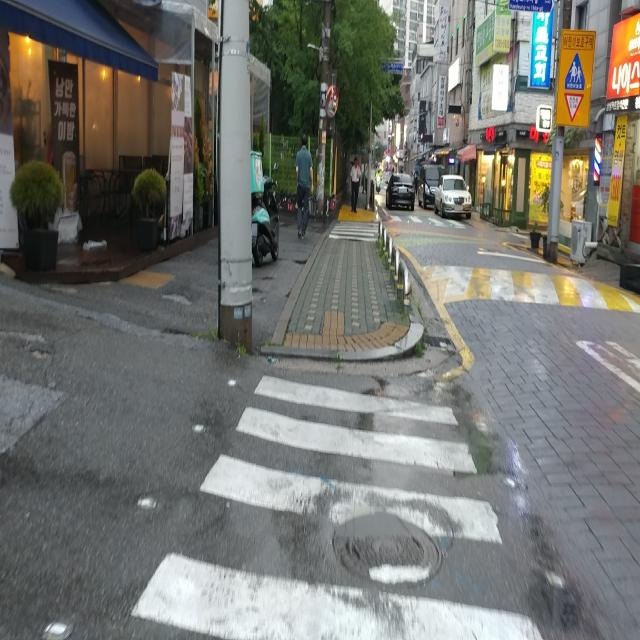횡단보도: (128, 374, 544, 640)
